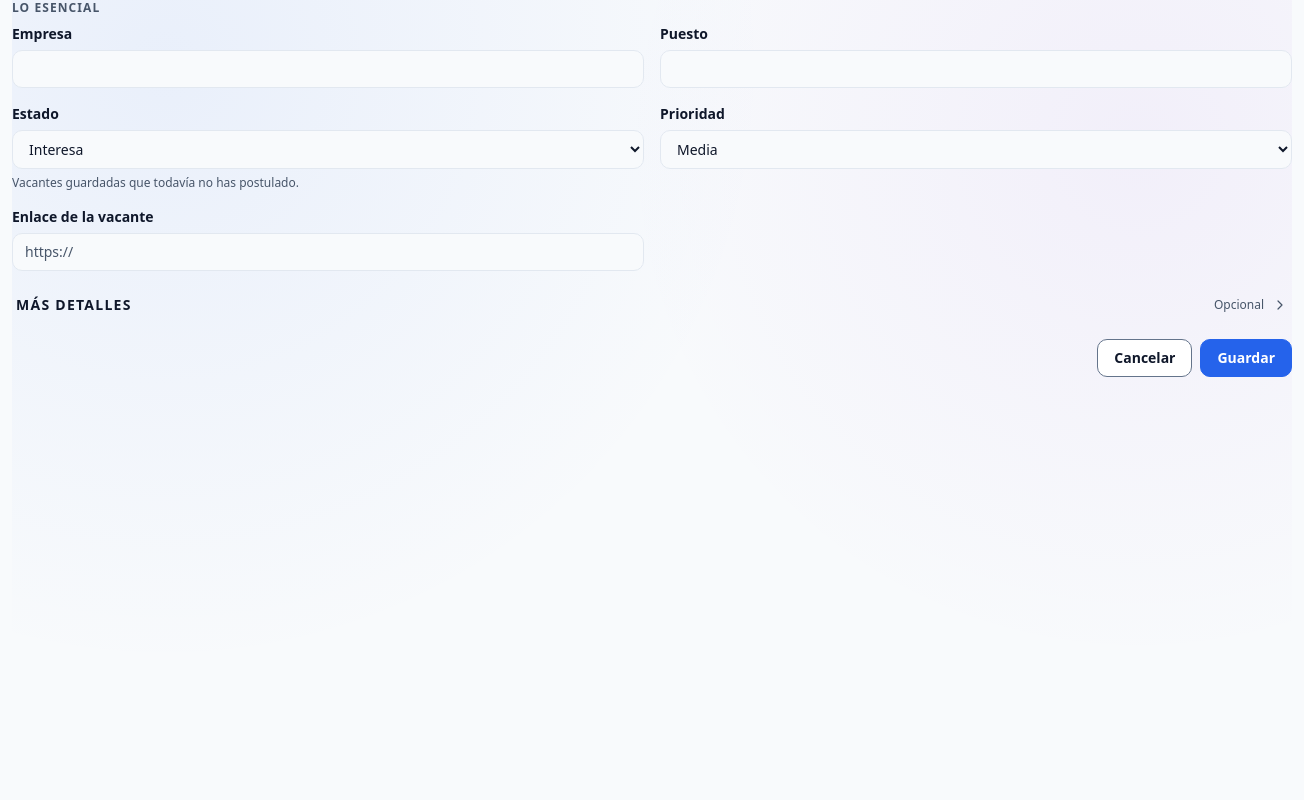
Test: ApplicationForm: campos opcionales › despliega los campos opcionales cuando se piden
The width and height of the screenshot is (1304, 800).
What coordinates should you click on to do the following:
click the button "Más detalles Opcional"
I would click on:
 (74, 304)
Its box is [12,287,1292,323].
(page scrolled)
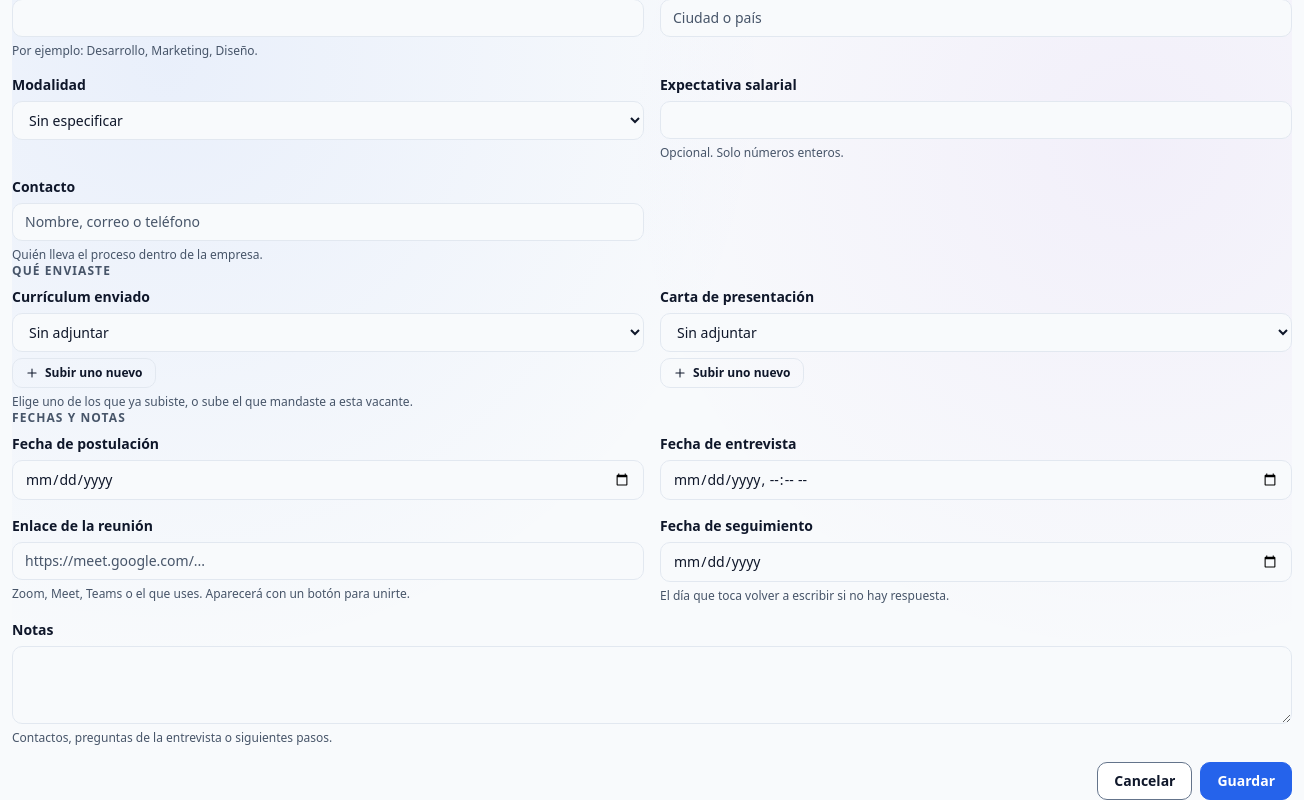
Expected: the field labelled "Contacto" is shown, [12,203,644,241]
Expected: the date field labelled "Fecha de seguimiento" is shown, [660,542,1292,582]
